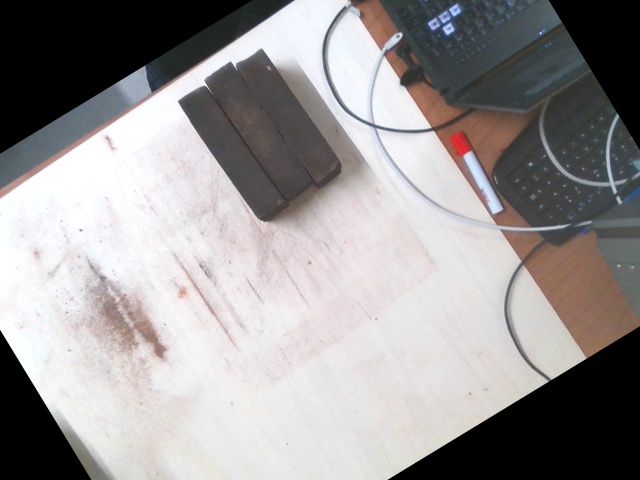brick-side: (234, 46, 340, 180), (204, 63, 310, 197), (177, 83, 282, 217)
